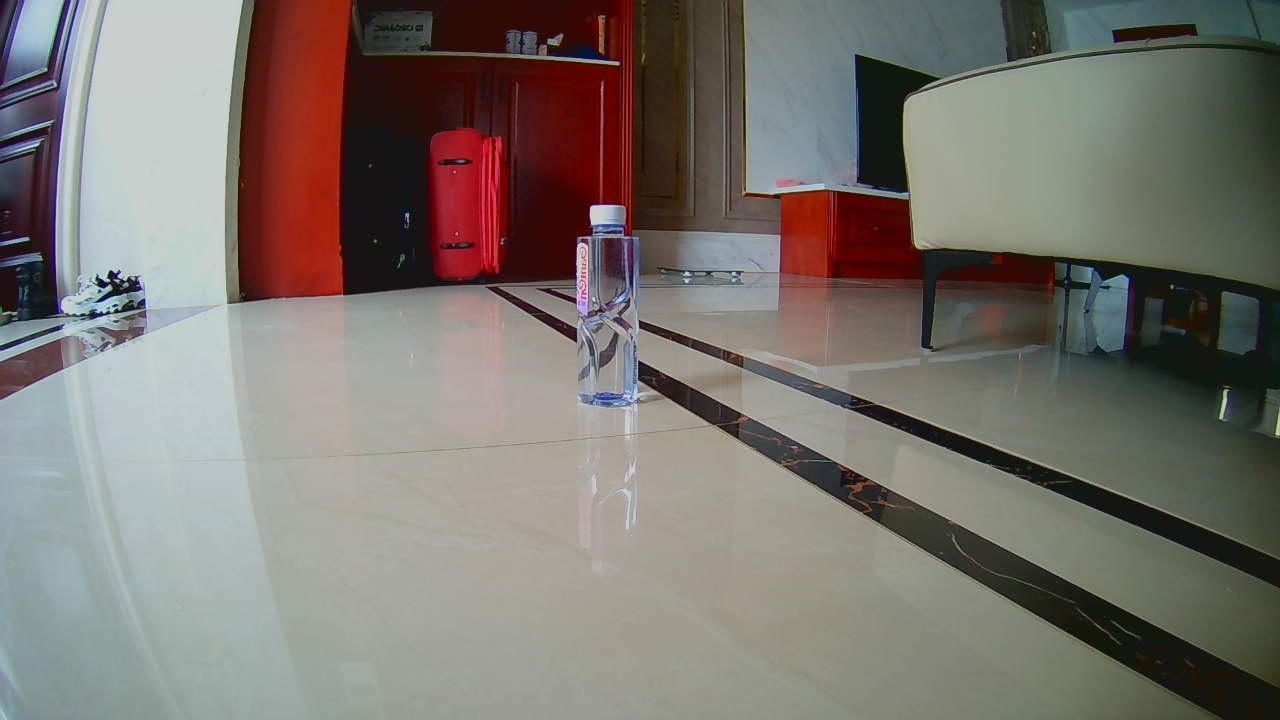water: (573, 201, 638, 407)
